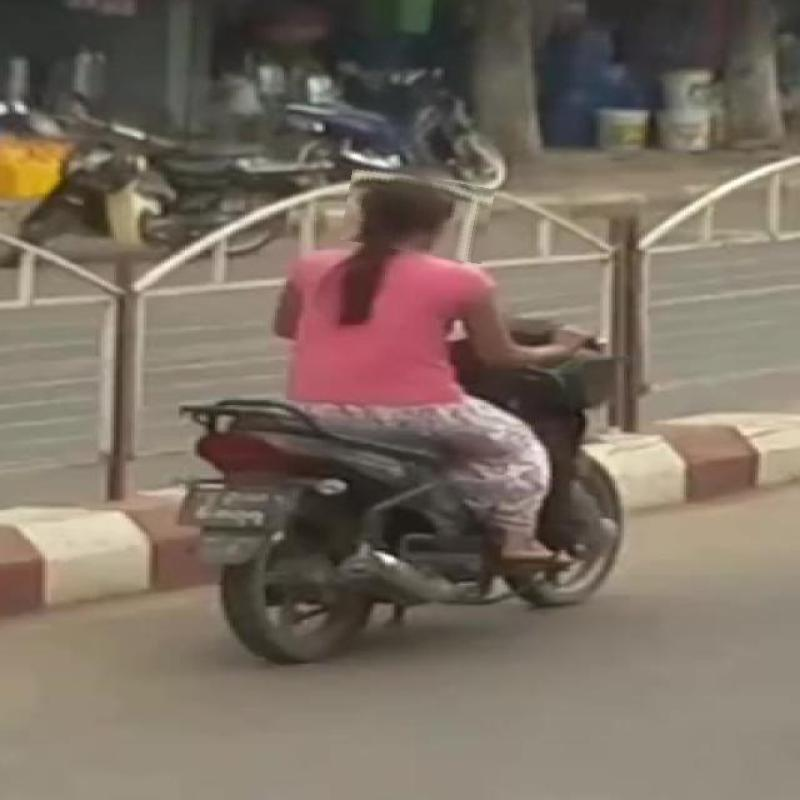nohelmet: (343, 170, 493, 258)
